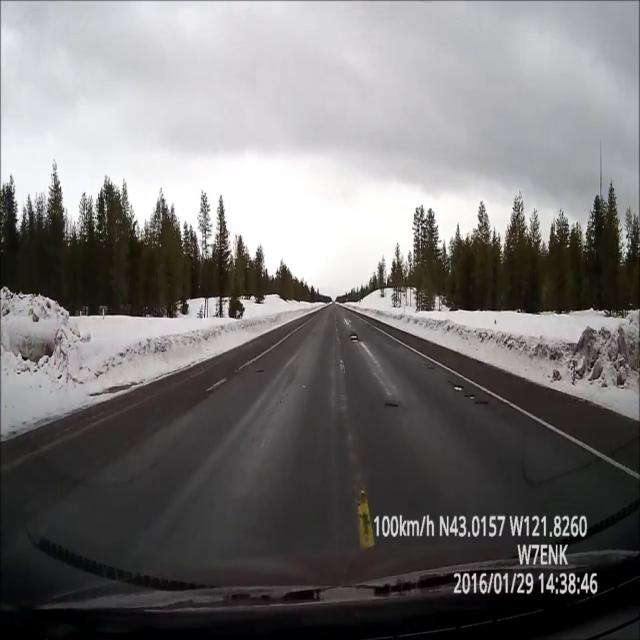Pothole: (451, 383, 464, 394), (474, 399, 488, 408), (385, 402, 400, 407), (351, 333, 358, 343), (463, 393, 474, 399)
